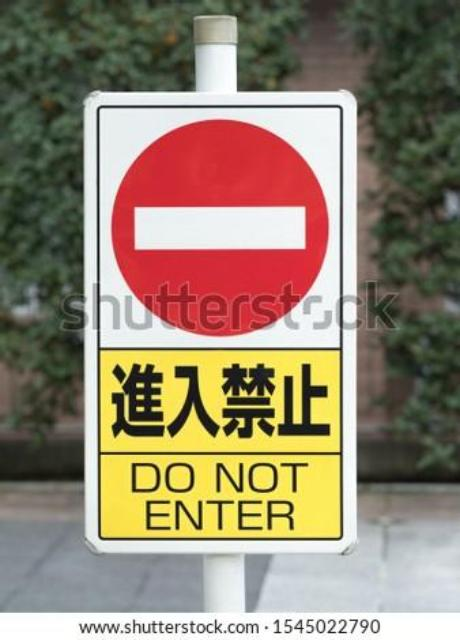B2: (114, 120, 327, 336)
